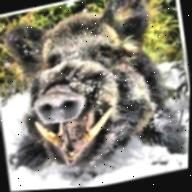boar: (18, 0, 192, 182)
